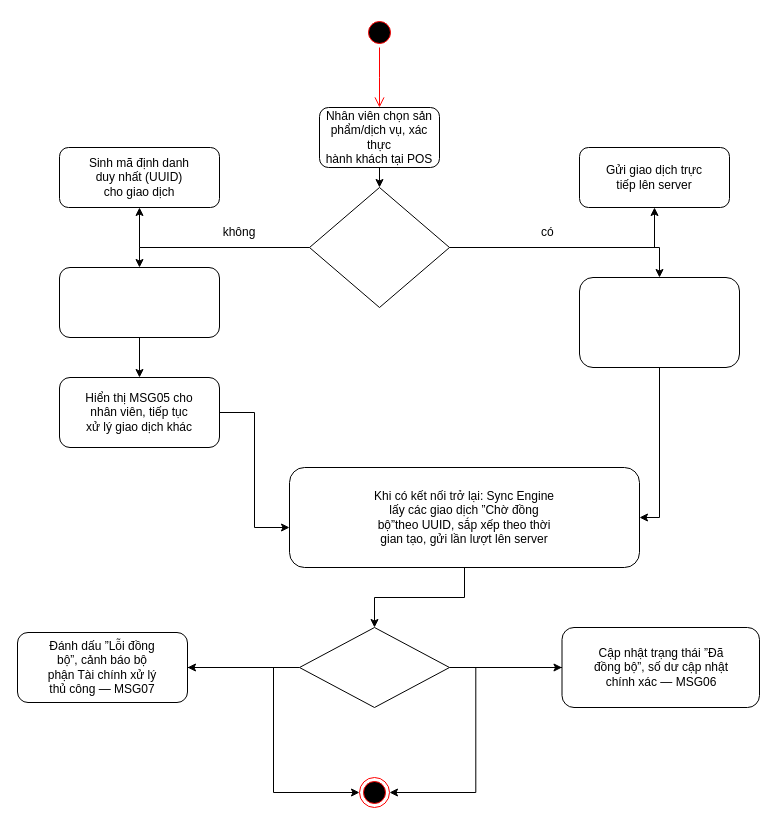
Some shapes in this 777 by 825 pixel diagram are drawn without their labels. Each missing label, with the centre of its shape:
"Có kết nối mạng?" goes at (379,247).
"Lưu giao dịch tạm cục bộ (local storage), đánh dấu ”Chờ đồng bộ" goes at (139,302).
"Server ghi nhận, cập nhật số dư Onboard- Account ngay lập tức" goes at (659,322).
"Đồng bộ thành công?" goes at (374,667).
